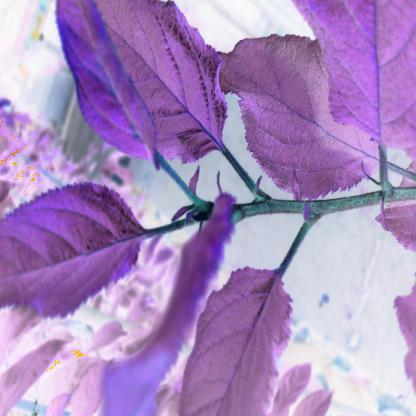Apple leaf: (45, 2, 252, 170), (207, 30, 391, 209), (0, 174, 146, 346), (168, 252, 318, 416)
